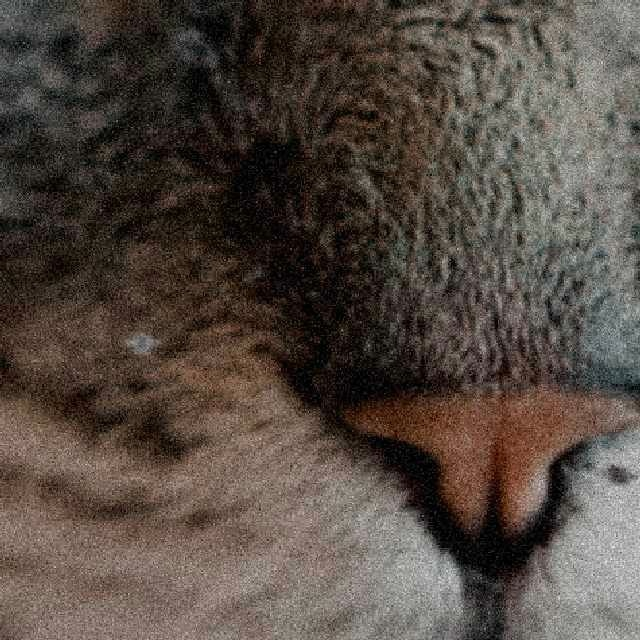DO_NOT_GO_AROUND: (597, 463, 635, 483), (123, 332, 161, 352)
